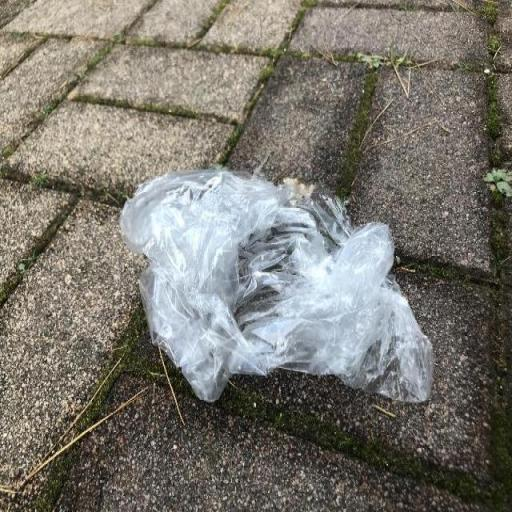plastic-bag: (116, 168, 440, 414)
